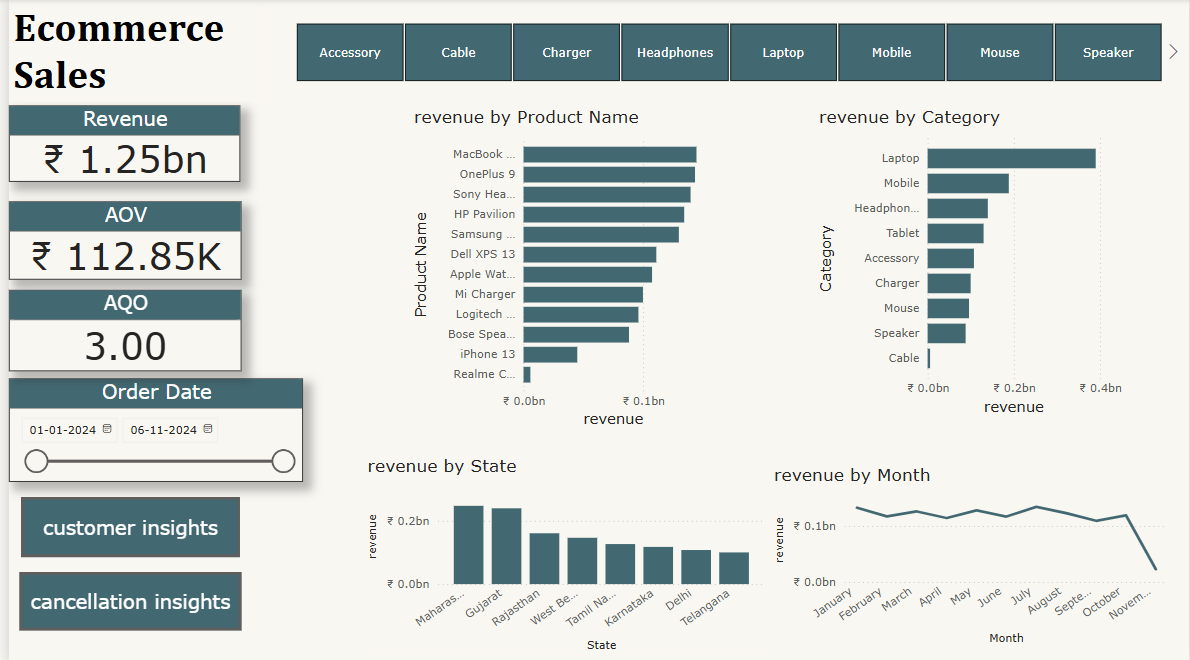

What the dashboard file says about the page in this screenshot:
{"tool":"powerbi","page":{"name":"Revenue_insights","canvas":[1280,720],"ordinal":0},"visuals":[{"type":"barChart","fields":{"Y":["Table.revenue"],"Category":["products.Category"]},"box":[873.1,115.3,338.3,340.2],"z":0},{"type":"slicer","title":"Order Date","fields":{"Values":["orders.Date and time of purchase"]},"box":[0,411.5,318.8,112.2],"z":1000},{"type":"card","title":"Revenue","fields":{"Values":["Table.revenue"]},"box":[0,115.5,250.5,83],"z":2000},{"type":"barChart","fields":{"Category":["products.Product Name"],"Y":["Table.revenue"]},"box":[434.6,115.3,345.8,353.4],"z":3000},{"type":"slicer","fields":{"Values":["products.Category"]},"box":[286.3,19.5,987.3,76.4],"z":4000},{"type":"columnChart","fields":{"Y":["Table.revenue"],"Category":["customers.State"]},"box":[383.6,495.1,440.3,217.3],"z":5000},{"type":"lineChart","fields":{"Category":["orders.Date and time of purchase.Variation.Date Hierarchy.Year","orders.Date and time of purchase.Variation.Date Hierarchy.Quarter","orders.Date and time of purchase.Variation.Date Hierarchy.Month","orders.Date and time of purchase.Variation.Date Hierarchy.Day"],"Y":["Table.revenue"]},"box":[823.9,504.6,436.5,200.3],"z":6000},{"type":"card","title":"AOV","fields":{"Values":["Table.AOV"]},"box":[0,219.6,252.1,84.6],"z":7000},{"type":"card","title":"AQO","fields":{"Values":["Table.AQO"]},"box":[0,315.5,252.1,87.8],"z":8000},{"type":"actionButton","box":[13,540,237.5,65.1],"z":9000},{"type":"actionButton","box":[11.4,621.3,240.7,63.4],"z":10000},{"type":"textbox","box":[0,0,274.9,110.6],"z":11000}]}

Visuals, with their boxes in screenshot pixels (x1, y1, x2, y2), scaled from the page's 1280x720 canvas onto the 1190x660 screenshot:
barChart - Table.revenue x products.Category: region(812, 106, 1126, 418)
"Order Date" slicer: region(0, 377, 296, 480)
"Revenue" card: region(0, 106, 233, 182)
barChart - products.Product Name x Table.revenue: region(404, 106, 726, 430)
slicer - products.Category: region(266, 18, 1184, 88)
columnChart - Table.revenue x customers.State: region(357, 454, 766, 653)
lineChart - orders.Date and time of purchase.Variation.Date Hierarchy.Year x orders.Date and time of purchase.Variation.Date Hierarchy.Quarter: region(766, 463, 1172, 646)
"AOV" card: region(0, 201, 234, 279)
"AQO" card: region(0, 289, 234, 370)
actionButton: region(12, 495, 233, 555)
actionButton: region(11, 570, 234, 628)
textbox: region(0, 0, 256, 101)
